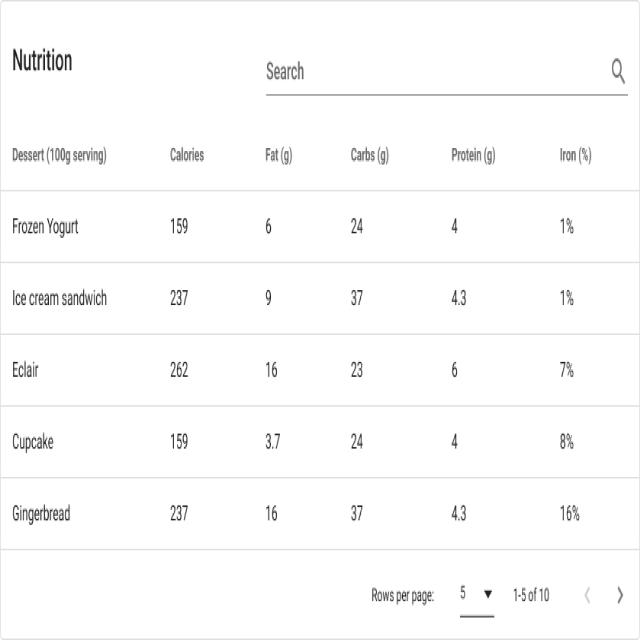QLabel: (11, 45, 73, 75)
VDataTable: (0, 129, 639, 640)
VTextField: (264, 51, 631, 101)
